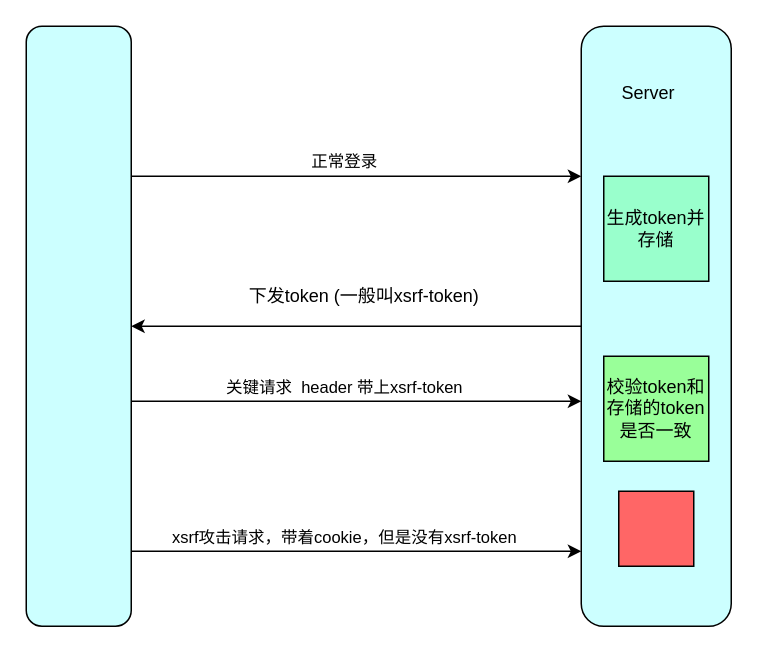
The diagram is 758 pixels wide and 653 high, and some of its shapes have lost their labels. The box of each missing label's shape, as (x1, y1, x2, y2) in pixels:
Client: (25, 25, 131, 626)
内部校验token失败: (617, 490, 694, 566)
